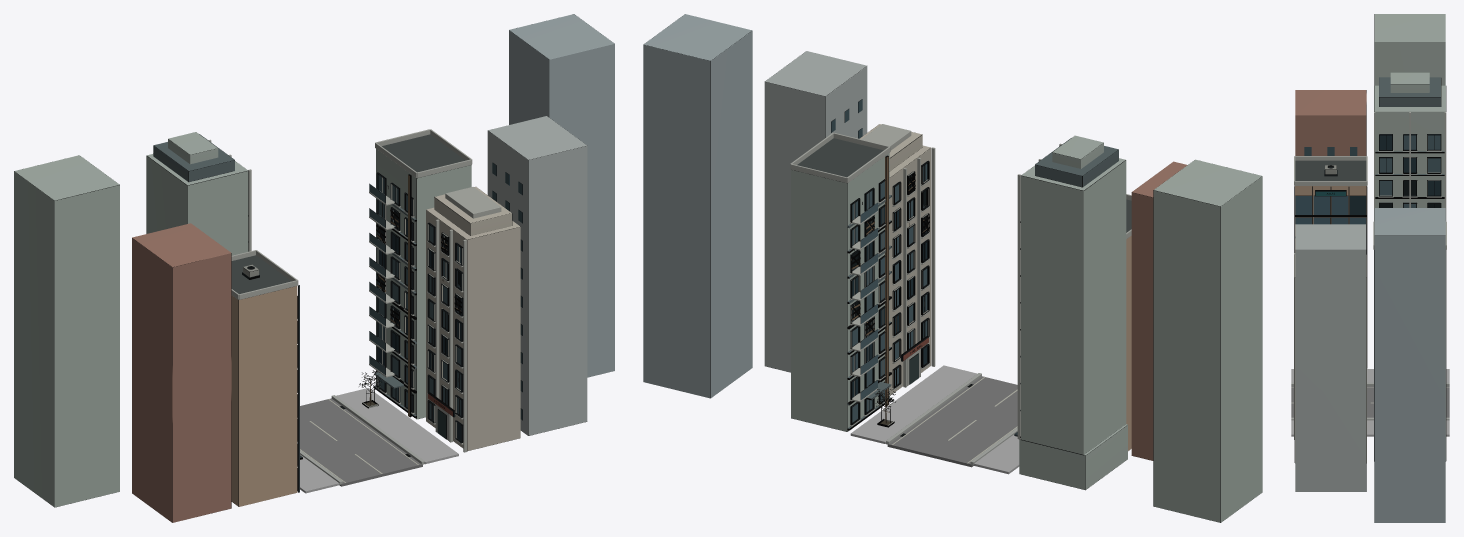
File: city_hd_07.glb
3 renders of one model, left to right at view 1: azimuth 30°, elevation 25°; view 2: azimuth 150°, elevation 25°; view 3: azimuth 270°, elevation 25°, orthographic. The views are drawn at different scales.
Visible parts, largest first — view 1: Background city building, CITY_ac_paint, CITY_PBR_asphalt, CITY_PBR_pavement, CITY_curb; view 2: Background city building, CITY_ac_paint, CITY_PBR_asphalt, CITY_PBR_pavement, CITY_curb; view 3: Background city building, CITY_ac_paint, CITY_PBR_asphalt, CITY_PBR_pavement.
Part boxes in pixels (left/top/right/bottom): Background city building: left=14, top=14, right=614, bottom=522; CITY_ac_paint: left=208, top=129, right=501, bottom=452; CITY_PBR_asphalt: left=297, top=398, right=422, bottom=486; CITY_PBR_pavement: left=297, top=388, right=458, bottom=493; CITY_curb: left=300, top=395, right=424, bottom=484; Background city building: left=643, top=14, right=1262, bottom=522; CITY_ac_paint: left=790, top=124, right=1131, bottom=439; CITY_PBR_asphalt: left=887, top=376, right=1017, bottom=467; CITY_PBR_pavement: left=850, top=365, right=1019, bottom=474; CITY_curb: left=886, top=373, right=1017, bottom=465; Background city building: left=1294, top=14, right=1446, bottom=522; CITY_ac_paint: left=1294, top=112, right=1446, bottom=439; CITY_PBR_asphalt: left=1291, top=386, right=1449, bottom=417; CITY_PBR_pavement: left=1291, top=369, right=1449, bottom=436.
Bounding box in the file's own units: 57.3 × 32.26 × 16.
7 materials, 1 textured.
